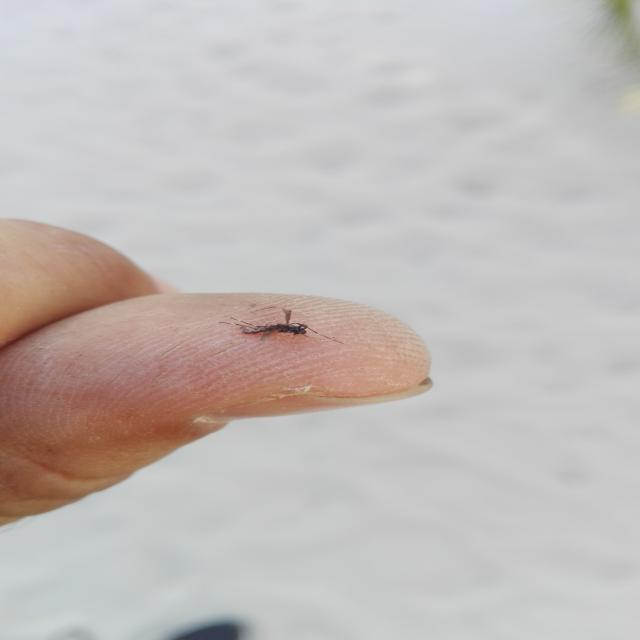albopictus: (214, 300, 352, 348)
